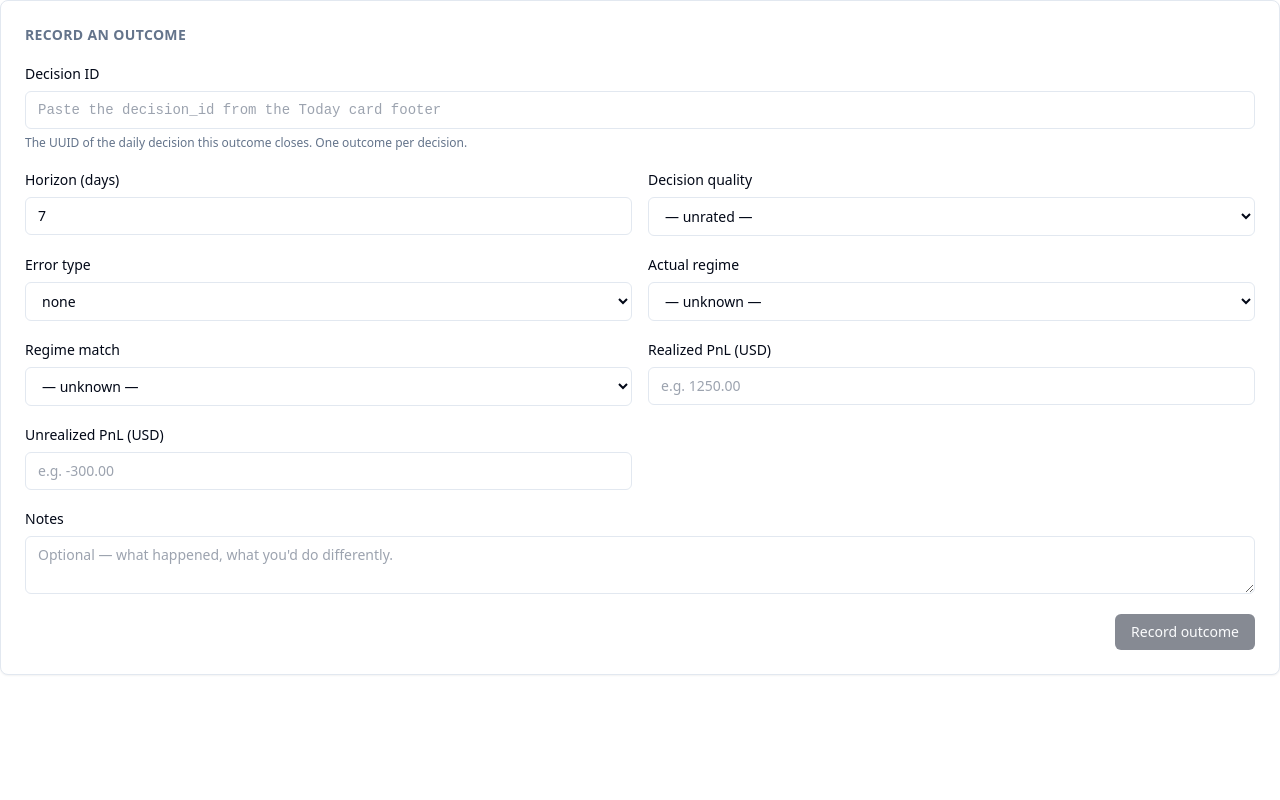
Test: OutcomeEntryForm › keeps Save disabled until a decision id is entered
Expected: the button with test id "entry-save-button" is disabled, [1115, 614, 1255, 650]
Type "aaaaaaaa-aaaa-aaaa-aaaa-aaaaaaaaaaaa" into the field with test id "field-new-daily_decision_id" at [640, 110], box [25, 91, 1255, 129]
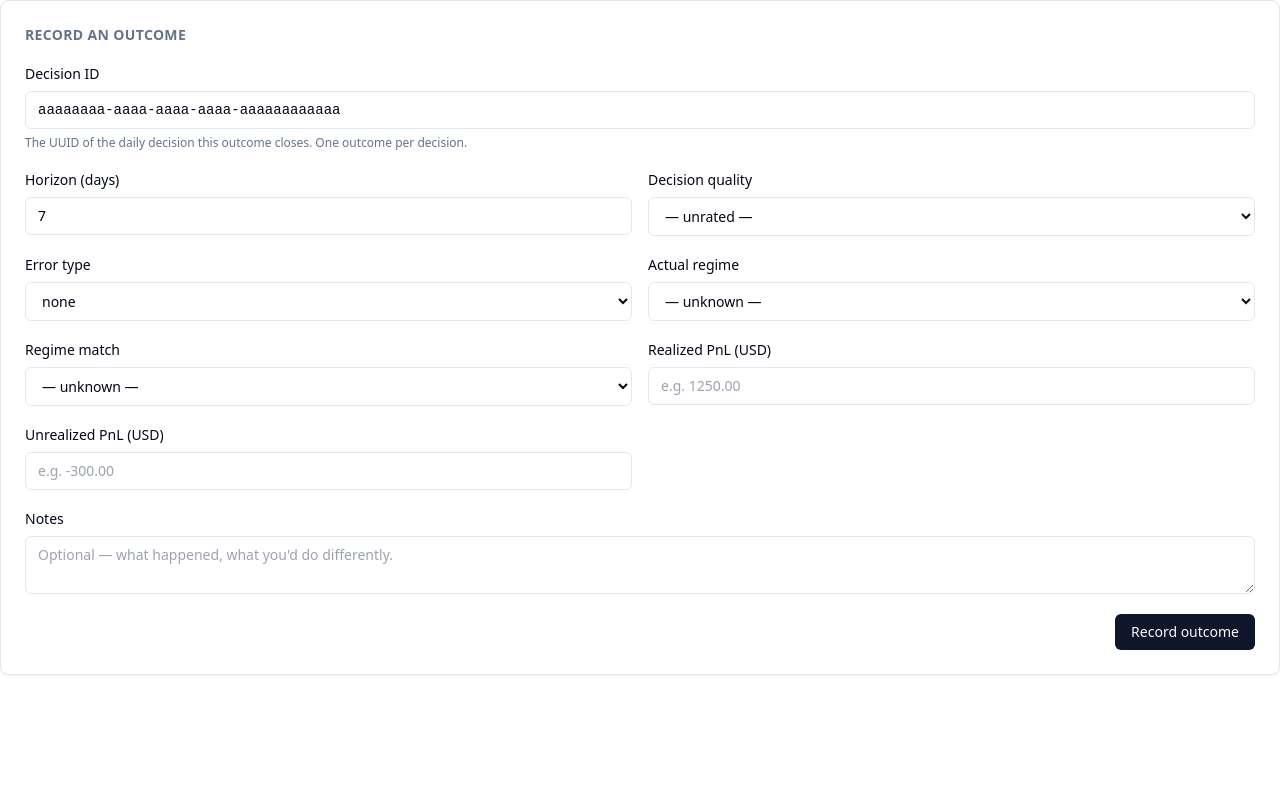
Result: the button with test id "entry-save-button" is enabled at [1115, 614, 1255, 650]
